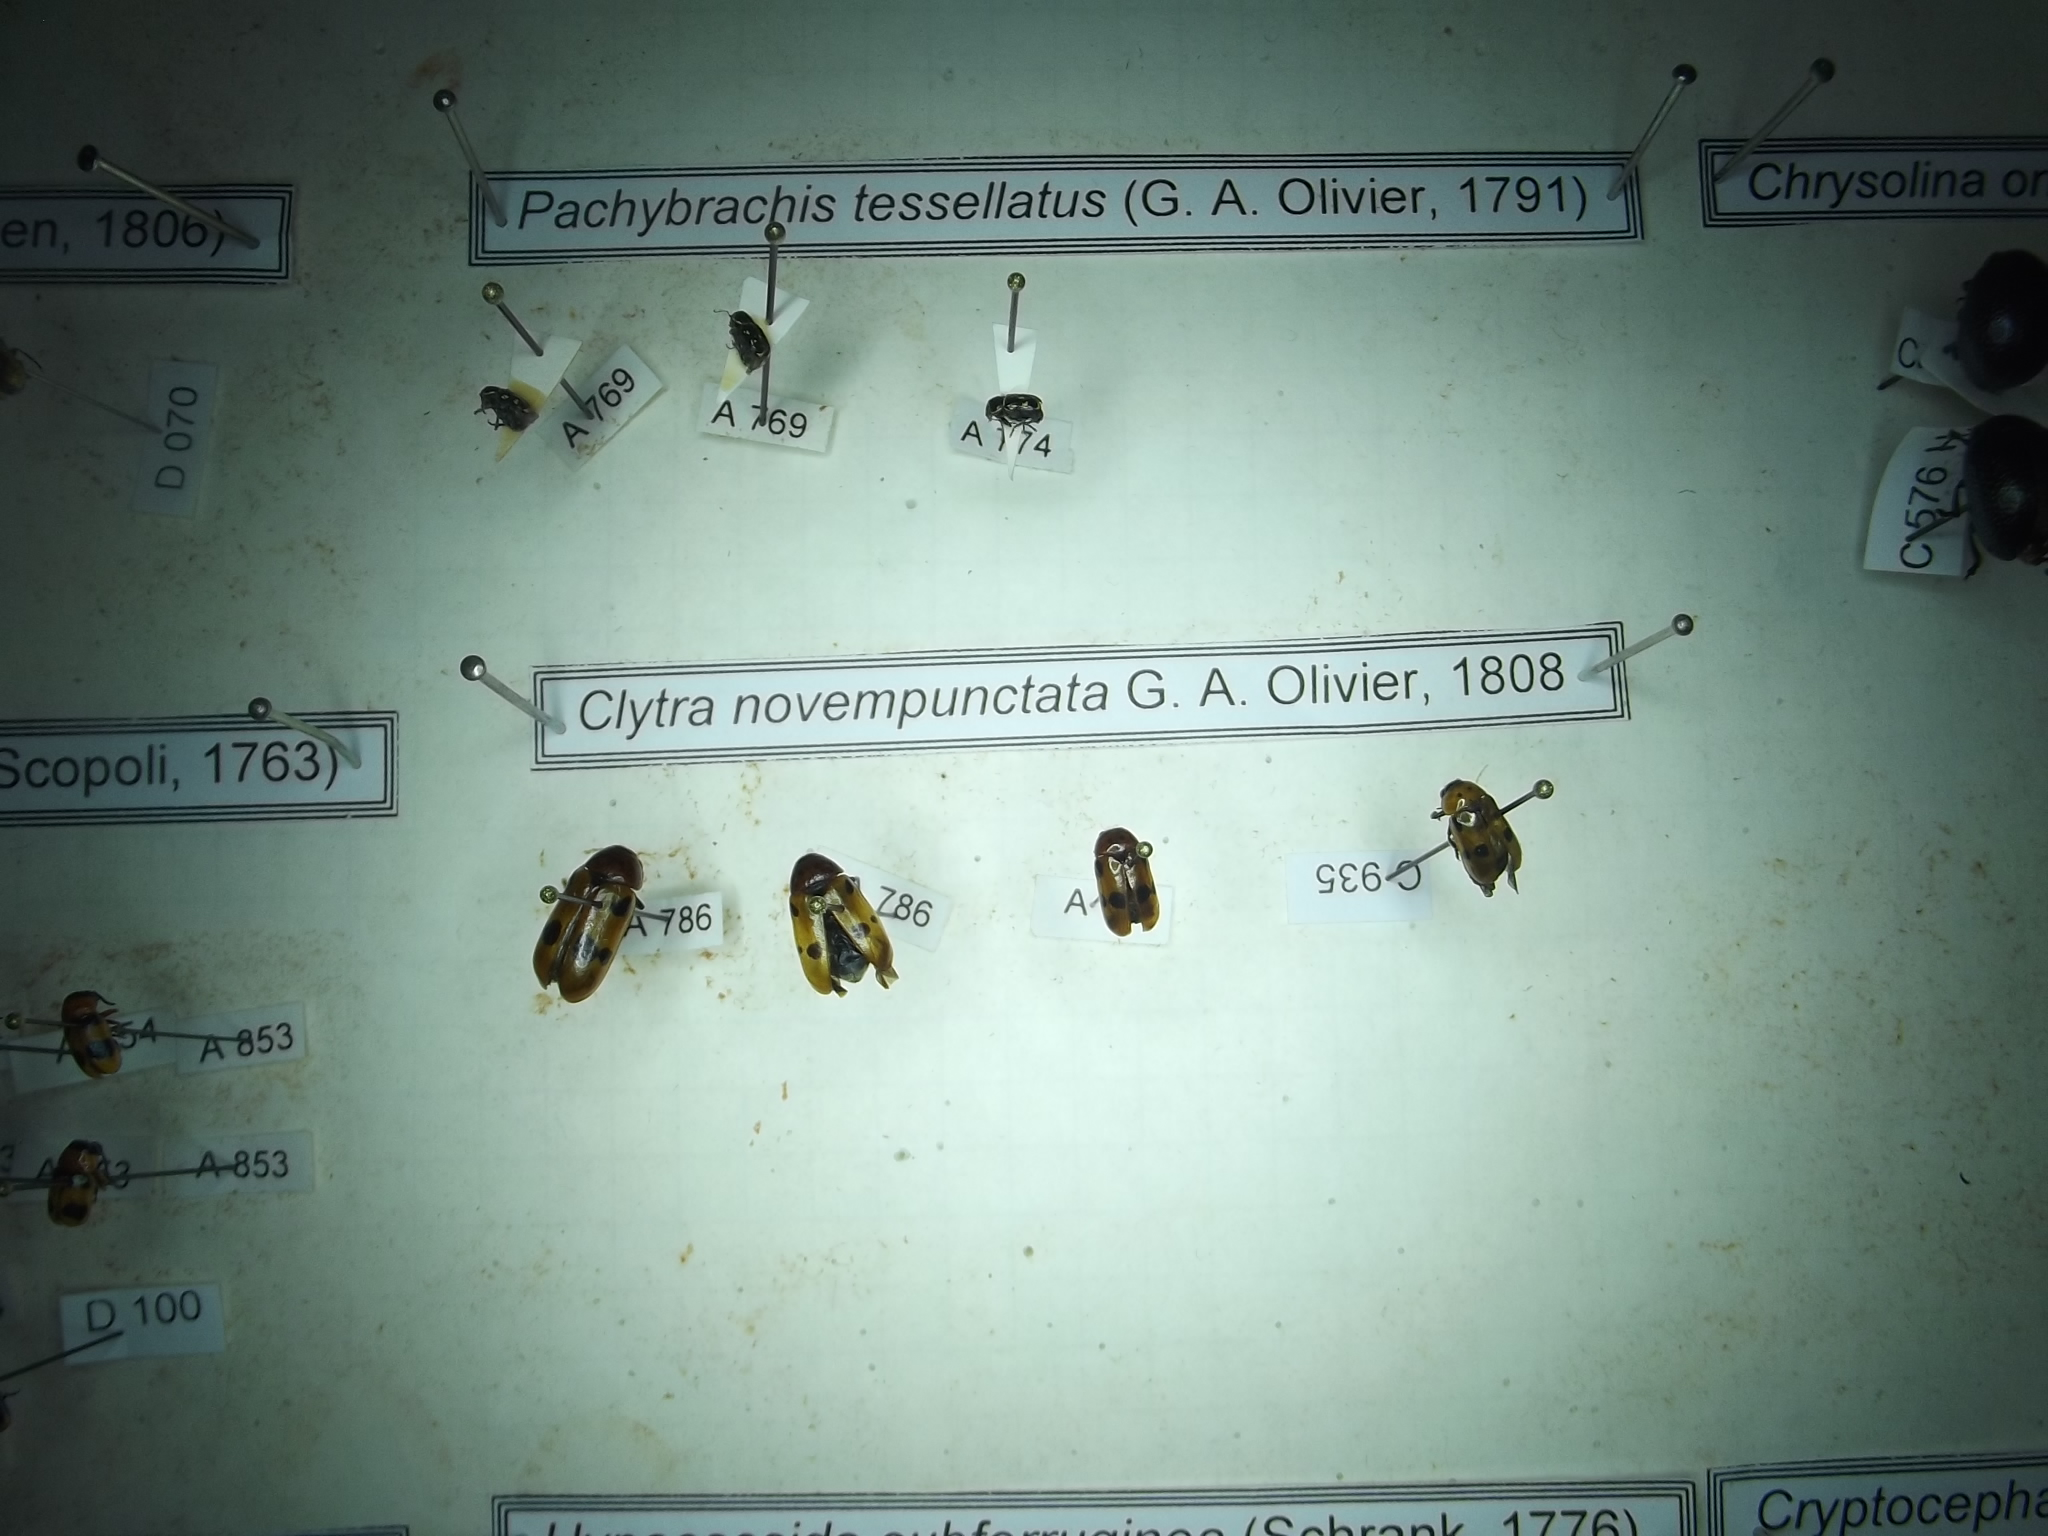Clytra_novempunctata: (526, 841, 660, 1002), (784, 845, 910, 1007), (1435, 774, 1530, 900), (1089, 820, 1163, 934)
